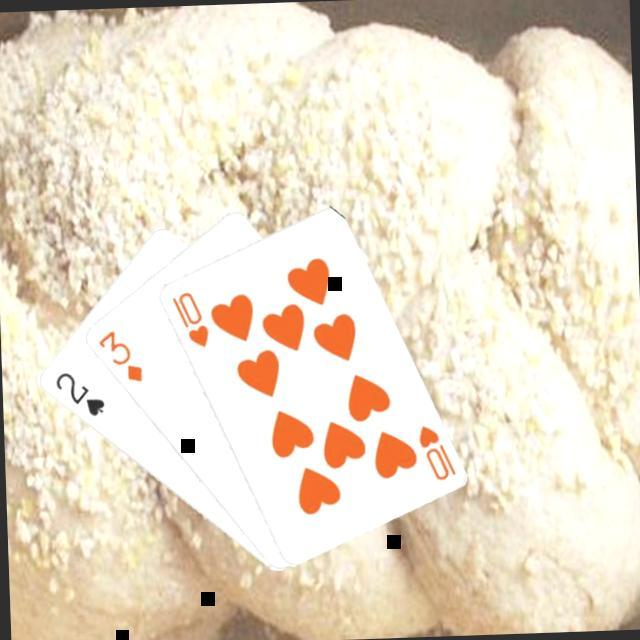10H: (169, 286, 213, 349), (416, 419, 460, 482)
2S: (52, 365, 110, 419)
3D: (95, 324, 147, 385)
